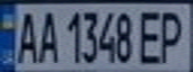1: (60, 7, 81, 63)
3: (78, 7, 100, 63)
4: (97, 8, 118, 63)
8: (112, 7, 139, 64)
A: (12, 7, 39, 64), (36, 7, 60, 64)
E: (136, 7, 166, 64)
P: (154, 7, 190, 64)
